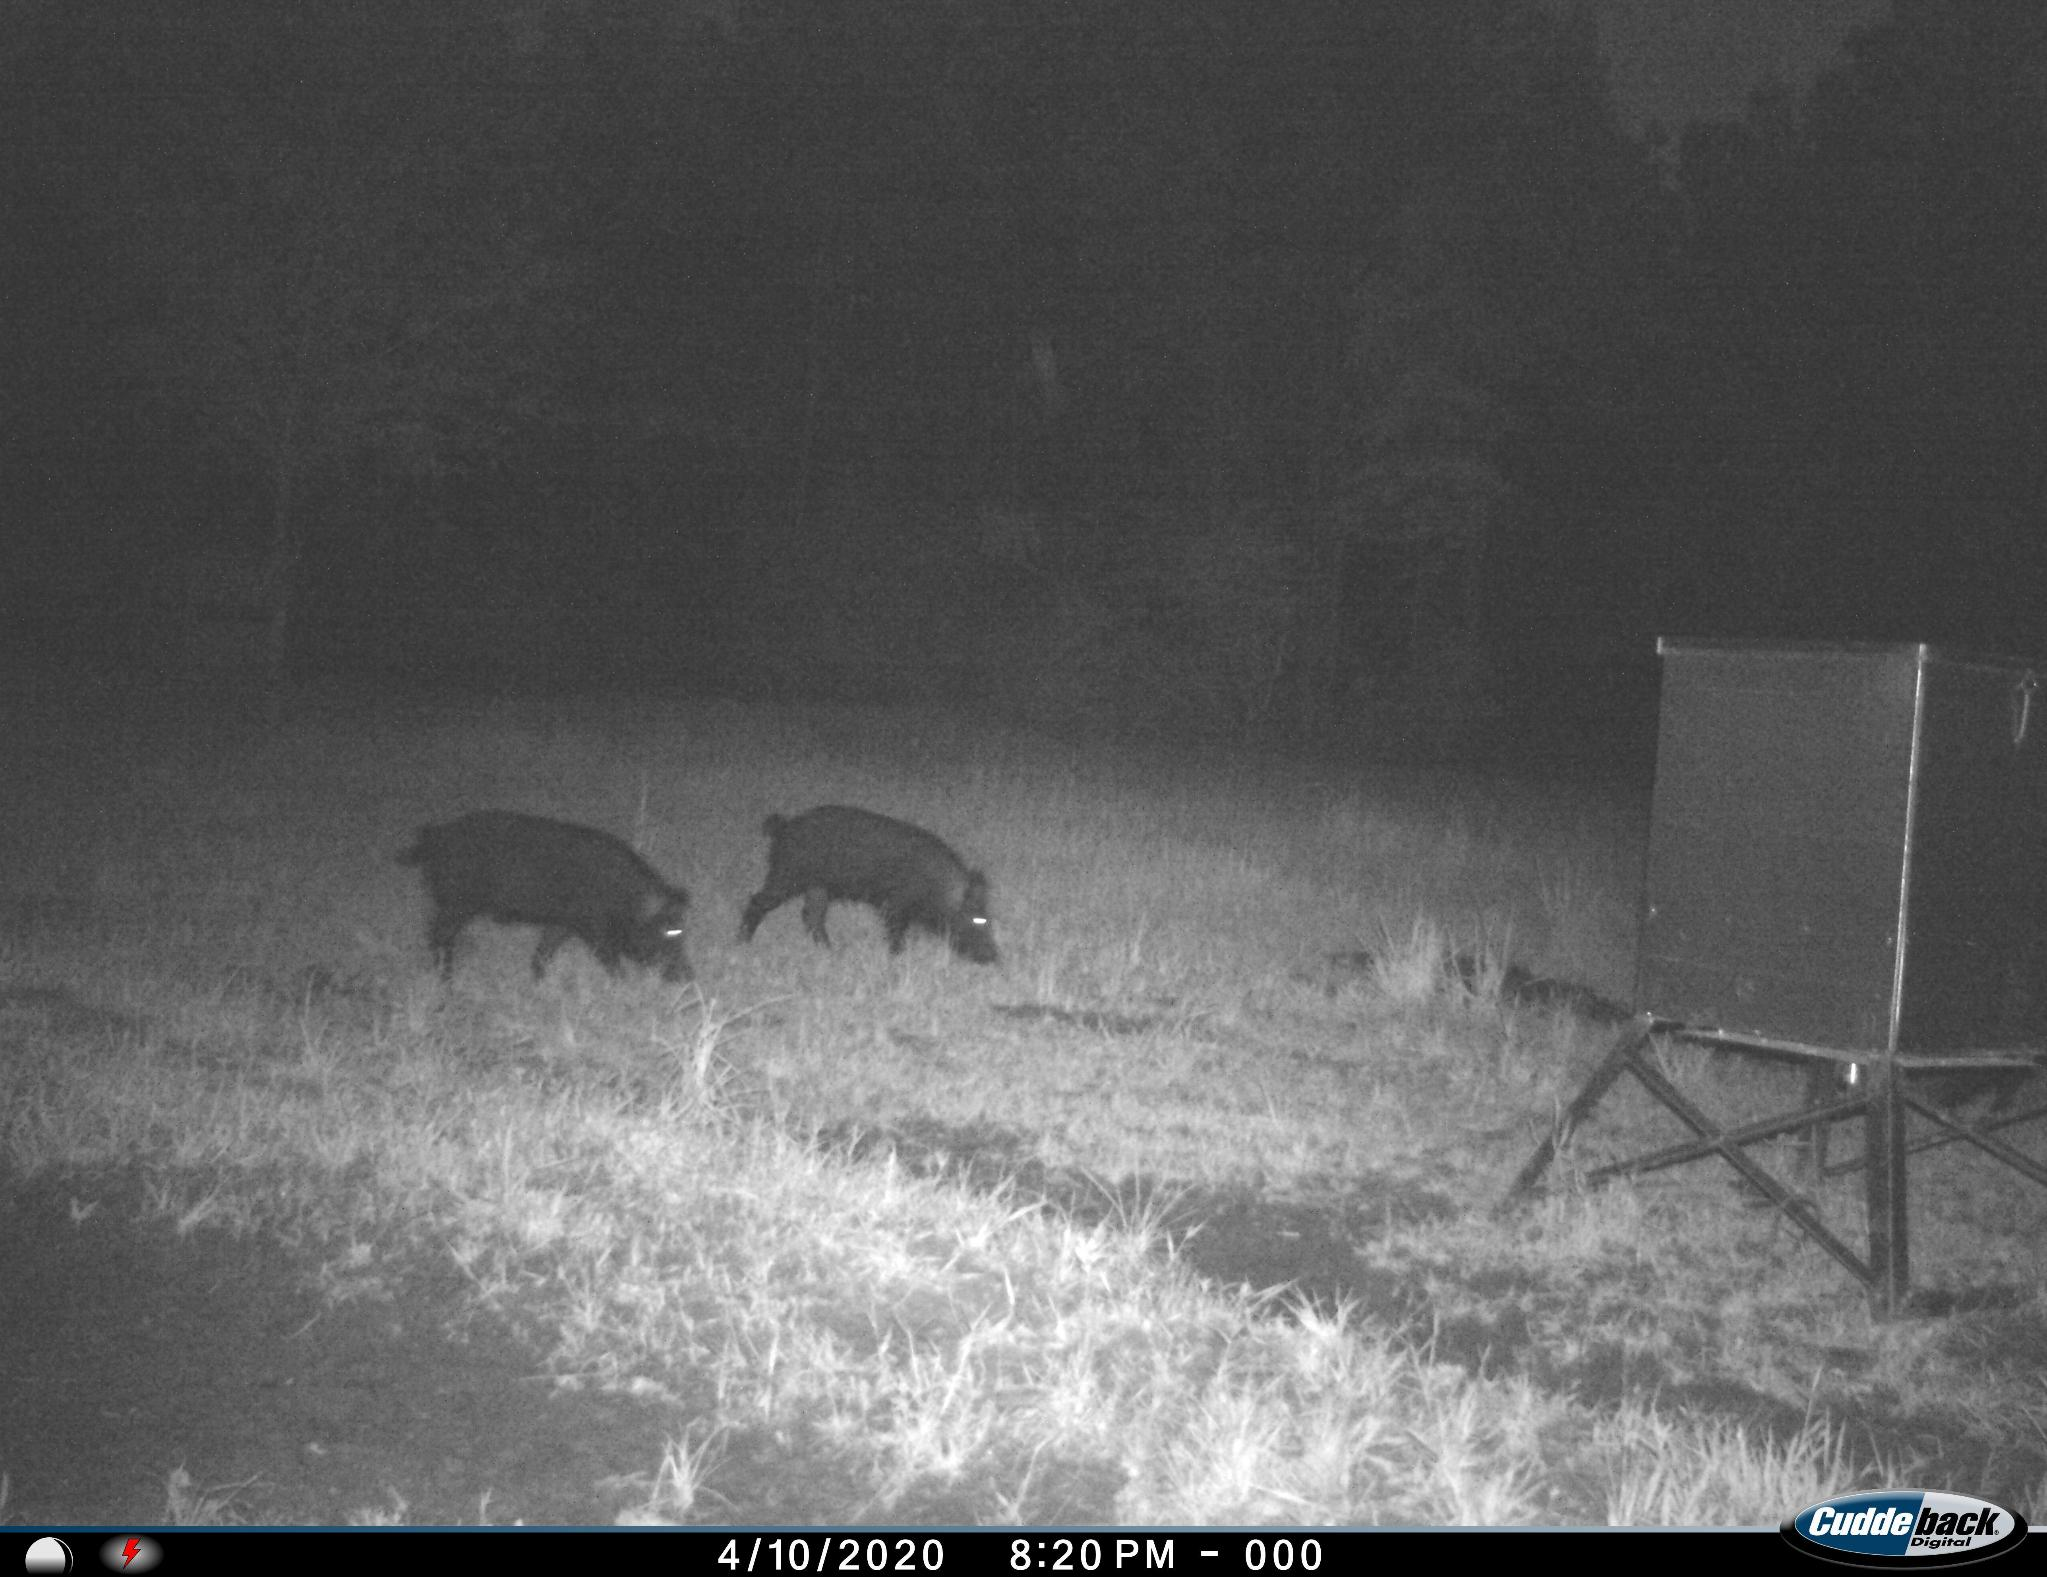Hog: (394, 805, 732, 1012), (739, 800, 1007, 994)
